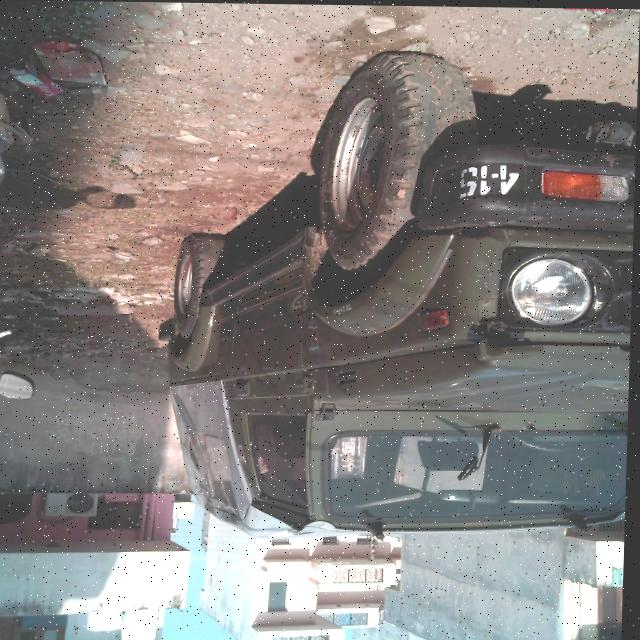unit number: (456, 160, 521, 198)
